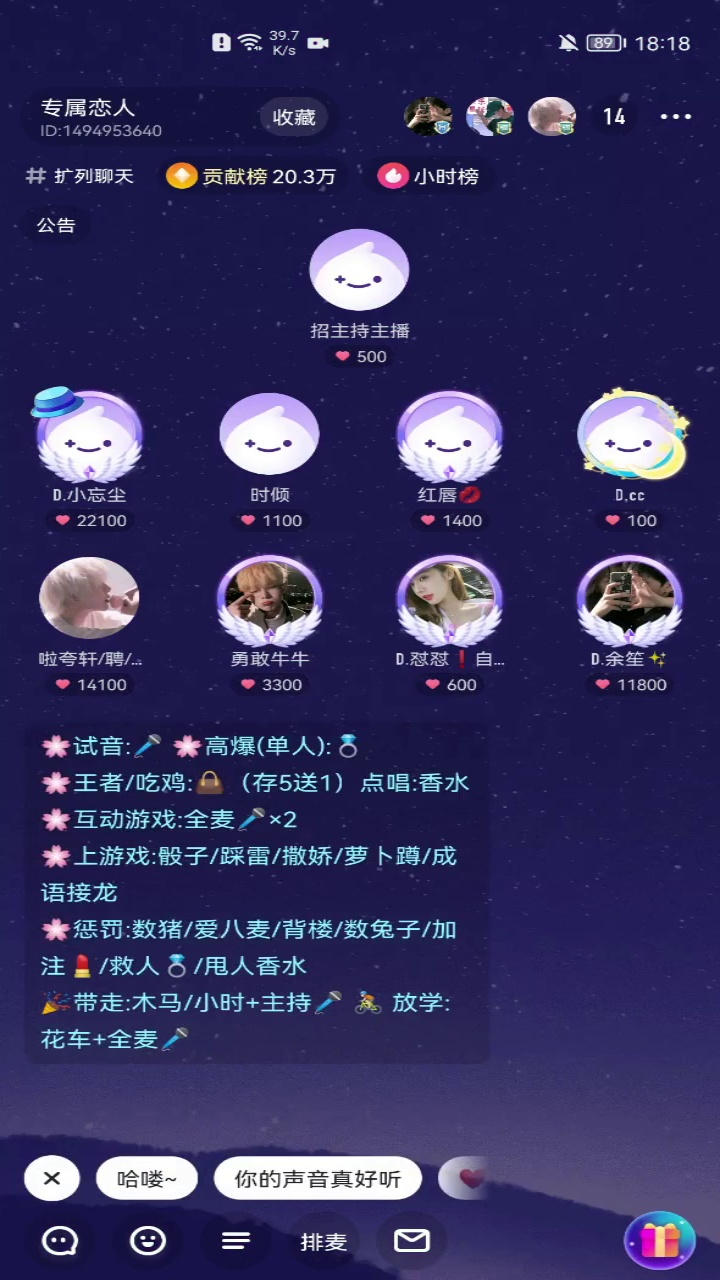avatar: (25, 380, 152, 485), (569, 384, 697, 485), (389, 385, 515, 485), (211, 385, 328, 480), (304, 224, 415, 316)
